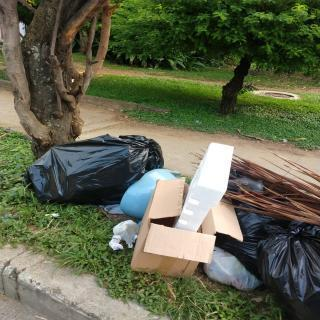Garbage: (24, 133, 169, 206)
